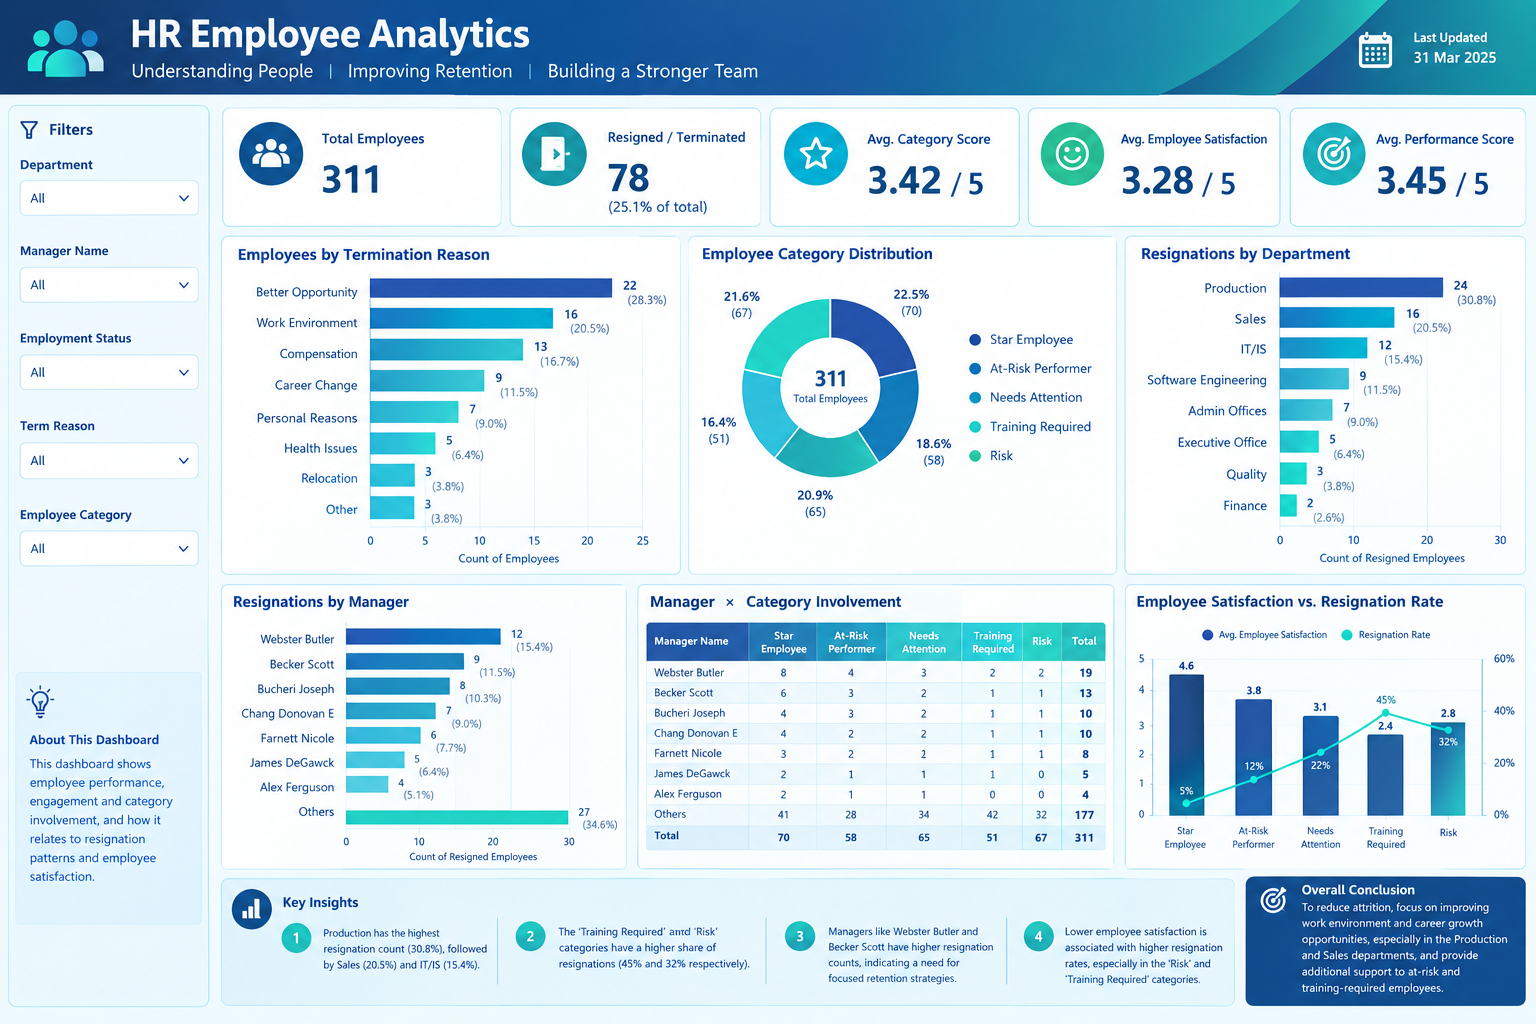

The dashboard page shown, as its layout file describes it:
{"tool":"powerbi","page":{"name":"  HR Employee Analytics ","canvas":[1280,720],"ordinal":0},"visuals":[{"type":"shape","box":[210,125,1058.3,90],"z":0},{"type":"shape","box":[0,0,1280,112],"z":1000},{"type":"textbox","box":[0,0,1280.3,78.3],"z":2000},{"type":"textbox","box":[0,67.3,1092,45.2],"z":3000},{"type":"shape","box":[0,123.8,200,583.8],"z":4000},{"type":"slicer","fields":{"Values":["hr_project departmentstatus.Department"]},"box":[13.8,138.8,172.5,93.8],"z":5000},{"type":"slicer","fields":{"Values":["hr_project category.Category"]},"box":[13.8,373.8,171.2,93.8],"z":6000},{"type":"slicer","fields":{"Values":["hr_project category.EmploymentStatus"]},"box":[15,493.8,172.5,93.8],"z":7000},{"type":"slicer","fields":{"Values":["hr_project mangerstatuswithoutdept.ManagerName"]},"box":[16.2,250,171.2,95],"z":8000},{"type":"clusteredBarChart","title":"Employ  Distribution  by category ","fields":{"Category":["hr_project category.Category","hr_project category.Department"],"Y":["CountNonNull(employedata.EmpID)"]},"box":[209.9,225.6,450,223.2],"z":9000},{"type":"barChart","title":"Total Employee by Department","fields":{"Category":["hr_project departmentstatus.Department"],"Y":["Sum(hr_project departmentstatus.Total_employee_under_manager)"]},"box":[674.4,225.6,593.6,223.2],"z":10000},{"type":"cardVisual","fields":{"Data":["CountNonNull(employedata.EmpID)"]},"box":[211.7,125.7,140,91.7],"z":11000},{"type":"cardVisual","fields":{"Data":["Sum(hr_project mangerstatuswithoutdept.Resigned_or_Terminated_Count)"]},"box":[651.7,125.7,175,91.7],"z":12000},{"type":"cardVisual","fields":{"Data":["hr_project mangerstatuswithoutdept.resignation_rate"]},"box":[826.7,124.9,161.7,93.3],"z":13000},{"type":"cardVisual","fields":{"Data":["Avg(hr_project mangerstatuswithoutdept.Avg_Category_score)"]},"box":[971.7,127.4,181.7,88.3],"z":14000},{"type":"cardVisual","fields":{"Data":["Avg(hr_project mangerstatuswithoutdept.Avg_EmpSatisfaction)"]},"box":[1108.3,138.3,171.7,93.3],"z":15000},{"type":"cardVisual","fields":{"Data":["CountNonNull(hr_project mangerstatuswithoutdept.ManagerID)"]},"box":[351.7,125.7,141.7,91.7],"z":16000},{"type":"cardVisual","fields":{"Data":["employedata.EmployOnManger"]},"box":[481.7,127.4,193.3,88.3],"z":17000},{"type":"clusteredColumnChart","title":"Employ  Distribution  by category ","fields":{"Y":["Avg(hr_project mangerstatuswithoutdept.Avg_EmpSatisfaction)","Avg(hr_project mangerstatuswithoutdept.Avg_Category_score)"],"Category":["employedata.Department"]},"box":[211.4,460,517.1,240],"z":18000},{"type":"shape","box":[738.6,458.6,530,241.4],"z":19000},{"type":"tableEx","title":"Employ  Distribution  by category ","fields":{"Values":["hr_project departmentstatus.Department","hr_project departmentstatus.Total_employee_under_manager","hr_project departmentstatus.Resigned_or_Terminated_Count","hr_project departmentstatus.Avg Resignation Rate"]},"box":[768.6,460,495.7,232.9],"z":20000}]}

Visuals, with their boxes on the page's 1280x720 design canvas (x1, y1, x2, y2). These are canvas units, not pixel positions in the 1536x1024 screenshot, which may show the page scaled, cropped or inside an application window:
shape: (left=210, top=125, right=1268, bottom=215)
shape: (left=0, top=0, right=1280, bottom=112)
textbox: (left=0, top=0, right=1280, bottom=78)
textbox: (left=0, top=67, right=1092, bottom=112)
shape: (left=0, top=124, right=200, bottom=708)
slicer - hr_project departmentstatus.Department: (left=14, top=139, right=186, bottom=233)
slicer - hr_project category.Category: (left=14, top=374, right=185, bottom=468)
slicer - hr_project category.EmploymentStatus: (left=15, top=494, right=188, bottom=588)
slicer - hr_project mangerstatuswithoutdept.ManagerName: (left=16, top=250, right=187, bottom=345)
"Employ  Distribution  by category " clusteredBarChart: (left=210, top=226, right=660, bottom=449)
"Total Employee by Department" barChart: (left=674, top=226, right=1268, bottom=449)
cardVisual - CountNonNull(employedata.EmpID): (left=212, top=126, right=352, bottom=217)
cardVisual - Sum(hr_project mangerstatuswithoutdept.Resigned_or_Terminated_Count): (left=652, top=126, right=827, bottom=217)
cardVisual - hr_project mangerstatuswithoutdept.resignation_rate: (left=827, top=125, right=988, bottom=218)
cardVisual - Avg(hr_project mangerstatuswithoutdept.Avg_Category_score): (left=972, top=127, right=1153, bottom=216)
cardVisual - Avg(hr_project mangerstatuswithoutdept.Avg_EmpSatisfaction): (left=1108, top=138, right=1280, bottom=232)
cardVisual - CountNonNull(hr_project mangerstatuswithoutdept.ManagerID): (left=352, top=126, right=493, bottom=217)
cardVisual - employedata.EmployOnManger: (left=482, top=127, right=675, bottom=216)
"Employ  Distribution  by category " clusteredColumnChart: (left=211, top=460, right=728, bottom=700)
shape: (left=739, top=459, right=1269, bottom=700)
"Employ  Distribution  by category " tableEx: (left=769, top=460, right=1264, bottom=693)
